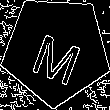M_N: (26, 18, 86, 83)
